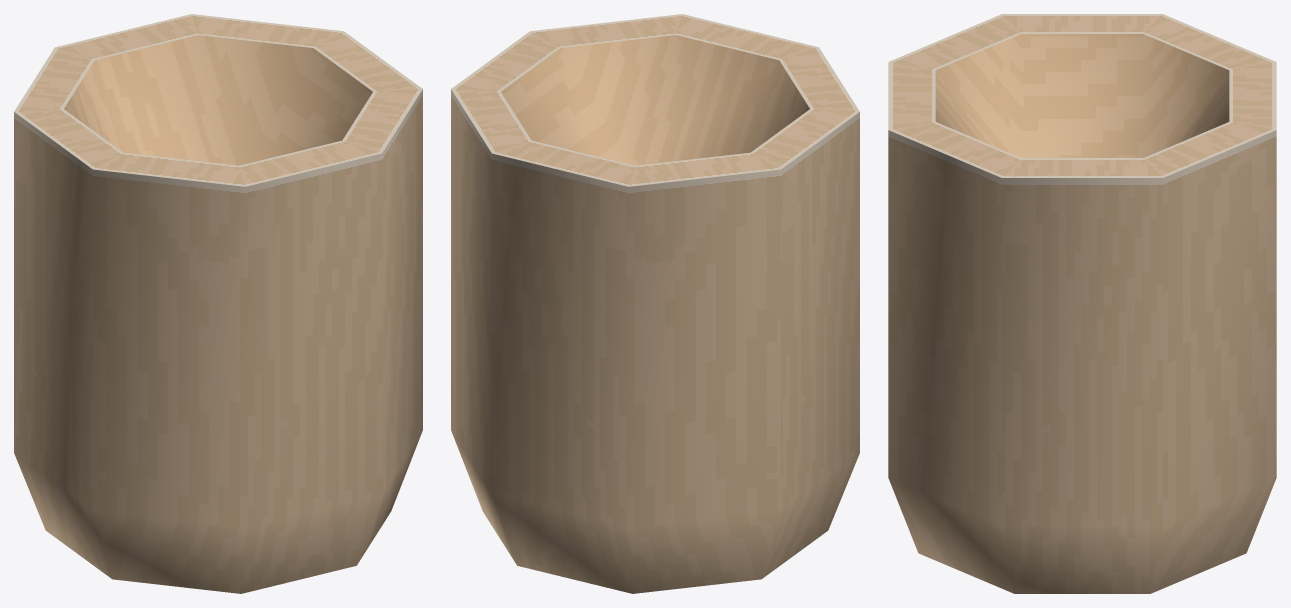
The model's file is 00ac_Mortar.glb.
3 renders of one model, left to right at view 1: azimuth 30°, elevation 25°; view 2: azimuth 150°, elevation 25°; view 3: azimuth 270°, elevation 25°, orthographic.
Visible parts, largest first — view 1: part_0; view 2: part_0; view 3: part_0.
Part boxes in pixels (x1,y1,x2,y2): part_0: (14, 14, 422, 593); part_0: (451, 14, 859, 593); part_0: (888, 14, 1276, 593).
Bounding box in the file's own units: 0.3696 × 0.45 × 0.3696.
1 material, 1 textured.
